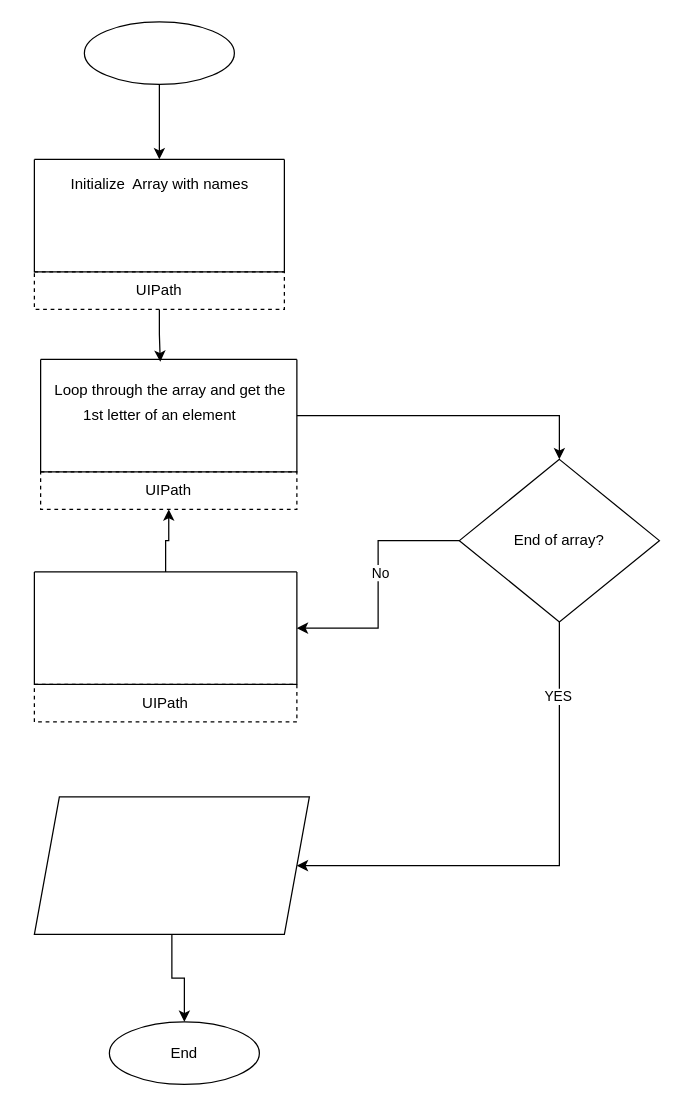
The diagram is 681 pixels wide and 1106 high, and some of its shapes have lost their labels. The box of each missing label's shape, as (x1, y1, x2, y2) in pixels:
Count element if it starts with a "c": (33, 571, 297, 684)
Display Count: (33, 796, 309, 934)
START: (83, 21, 234, 84)
